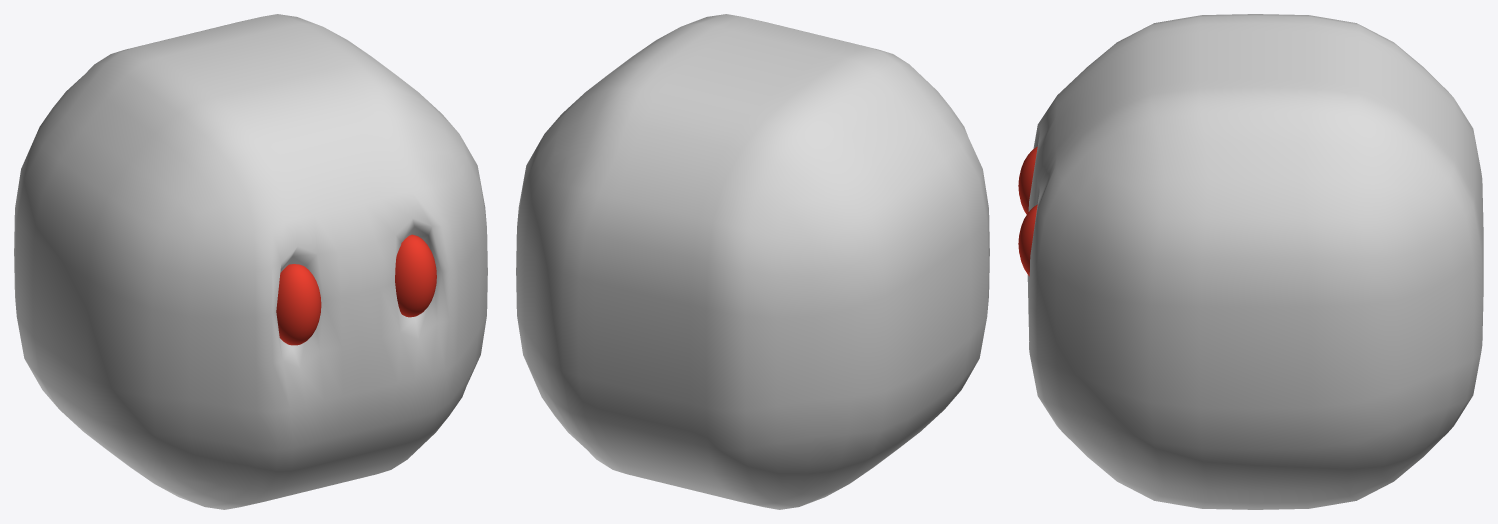
The model's file is кругляш.fbx.
The picture shows the model from 3 angles, left to right: view 1: azimuth 30°, elevation 25°; view 2: azimuth 150°, elevation 25°; view 3: azimuth 270°, elevation 25°; orthographic projection. The views are drawn at different scales.
Visible parts, largest first — view 1: Cube, Sphere; view 2: Cube; view 3: Cube, Sphere.
Part boxes in pixels (<box>): Cube: <box>14,14,487,509</box>; Sphere: <box>276,234,436,345</box>; Cube: <box>516,14,989,509</box>; Cube: <box>1027,14,1483,509</box>; Sphere: <box>1018,146,1037,276</box>.
Size of the model in its own units: 264 by 264 by 269.
